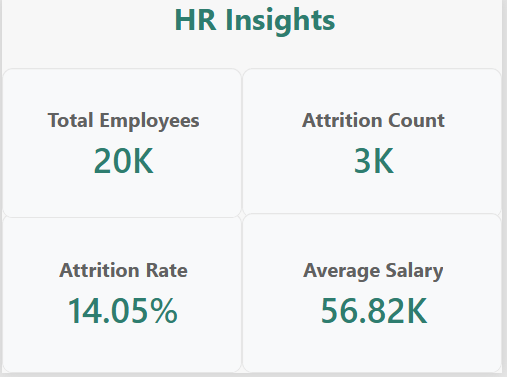

Layout of this report page (visuals, bound fields, positions):
{"tool":"powerbi","page":{"name":"HR Insights Tooltip","canvas":[400,300],"ordinal":3},"visuals":[{"type":"textbox","box":[8,0,384,32],"z":0},{"type":"cardVisual","fields":{"Data":["FactEmployee.Total Employees"]},"box":[0,56,192,120],"z":1000},{"type":"cardVisual","fields":{"Data":["FactEmployee.Attrition Count"]},"box":[192,56,208,120],"z":2000},{"type":"cardVisual","fields":{"Data":["FactEmployee.Average Salary"]},"box":[192,172,208,128],"z":3000},{"type":"cardVisual","fields":{"Data":["FactEmployee.Attrition Rate"]},"box":[0,172,192,128],"z":4000}]}

Visuals, with their boxes in screenshot pixels (x1, y1, x2, y2), scaled from the page's 400x300 canvas onto the 507x377 screenshot:
textbox: (x1=10, y1=0, x2=497, y2=40)
cardVisual - FactEmployee.Total Employees: (x1=0, y1=70, x2=243, y2=221)
cardVisual - FactEmployee.Attrition Count: (x1=243, y1=70, x2=506, y2=221)
cardVisual - FactEmployee.Average Salary: (x1=243, y1=216, x2=506, y2=376)
cardVisual - FactEmployee.Attrition Rate: (x1=0, y1=216, x2=243, y2=376)
